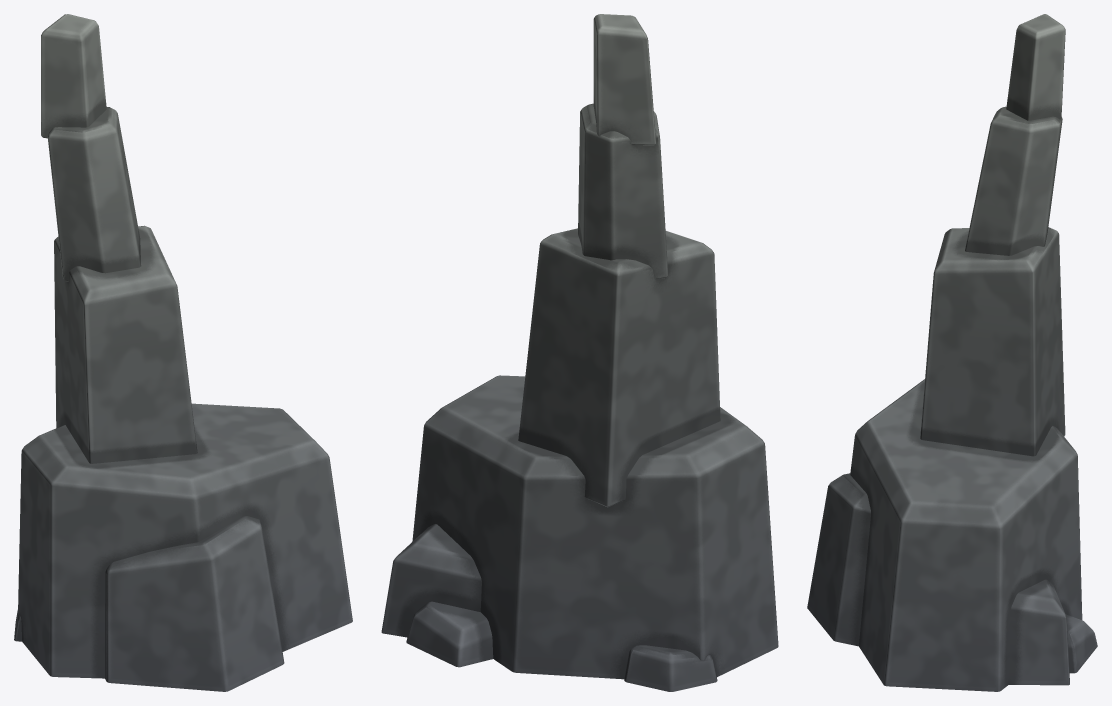
File: spire_2.glb
3 renders of one model, left to right at view 1: azimuth 30°, elevation 25°; view 2: azimuth 150°, elevation 25°; view 3: azimuth 270°, elevation 25°, orthographic. The views are drawn at different scales.
Parts seen in each view (by area): view 1: spire_2; view 2: spire_2; view 3: spire_2.
Boxes of the visible parts, <box> form: spire_2: <box>14,14,352,691</box>; spire_2: <box>381,14,778,691</box>; spire_2: <box>807,14,1097,691</box>.
Bounding box in the file's own units: 4.2 × 8 × 3.7.
Materials: 1 (1 with a texture image).
